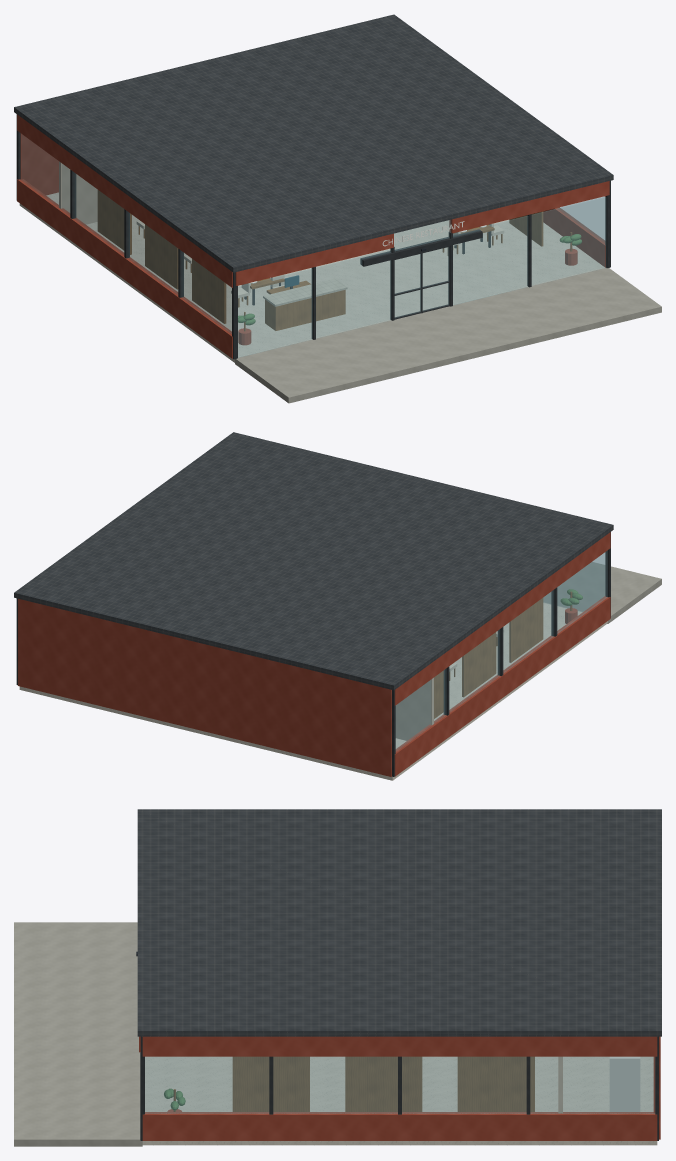
File: 04_Chinese_Restaurant_LOD1.glb
3 views of the same model, one above another, from view 1: azimuth 30°, elevation 25°; view 2: azimuth 150°, elevation 25°; view 3: azimuth 270°, elevation 25° (orthographic). The views are drawn at different scales.
Visible parts, largest first — view 1: Roof, Approach, Floor, Front glazing, Front glazing.001, Side glazing, Side base wall, Side upper wall, Front band.001, Front band, Service counter, Rear wall (+12 smaller); view 2: Roof, Rear wall, Side glazing, Side base wall, Floor, Side upper wall, Approach, Internal partition, Front glazing, Timber screen.001, Timber screen; view 3: Roof, Side glazing.001, Approach, Floor, Side base wall.001, Side upper wall.001, Timber screen.003, Timber screen.005, Timber screen.004, Fridge.
Boxes of the visible parts, x1,y1,x2,y2 form: Roof: (14, 14, 613, 272); Approach: (235, 268, 661, 403); Floor: (19, 192, 605, 362); Front glazing: (238, 249, 391, 357); Front glazing.001: (453, 197, 606, 304); Side glazing: (20, 133, 231, 333); Side base wall: (17, 179, 232, 358); Side upper wall: (17, 114, 232, 287); Front band.001: (449, 181, 609, 233); Front band: (235, 233, 393, 285); Service counter: (265, 290, 345, 330); Rear wall: (20, 133, 58, 195); Roof: (14, 432, 613, 690); Rear wall: (18, 598, 391, 776); Side glazing: (396, 551, 607, 751); Side base wall: (394, 596, 610, 776); Floor: (19, 603, 607, 780); Side upper wall: (394, 532, 610, 705); Approach: (543, 562, 661, 623); Internal partition: (395, 677, 433, 740); Front glazing: (543, 553, 604, 611); Timber screen.001: (462, 632, 496, 697); Timber screen: (509, 598, 543, 662); Roof: (137, 809, 661, 1036); Side glazing.001: (145, 1057, 654, 1113); Approach: (14, 922, 142, 1146); Floor: (142, 1056, 657, 1145); Side base wall.001: (142, 1112, 657, 1140); Side upper wall.001: (142, 1036, 657, 1056); Timber screen.003: (232, 1056, 309, 1111); Timber screen.005: (457, 1056, 534, 1111); Timber screen.004: (345, 1056, 422, 1111); Fridge: (609, 1056, 640, 1111).
Bounding box in the file's own units: 16.3 × 4.04 × 20.15.
17 materials, 11 textured.
